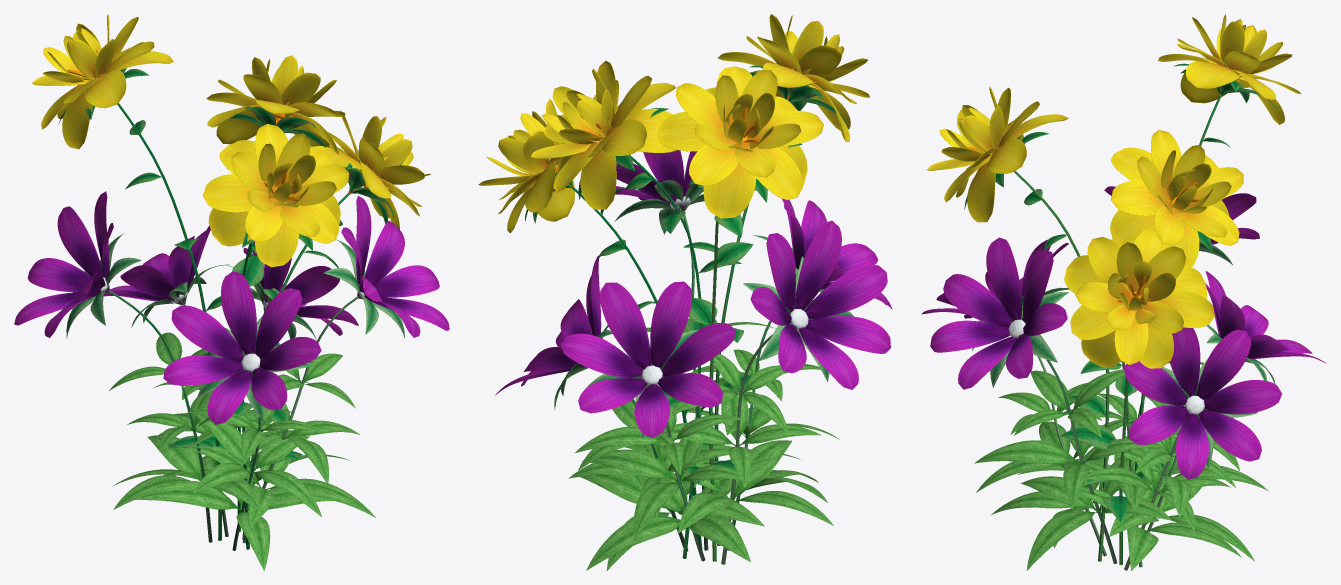
The model's file is ColoredFlower.fbx.
The picture shows the model from 3 angles, left to right: view 1: azimuth 30°, elevation 25°; view 2: azimuth 150°, elevation 25°; view 3: azimuth 270°, elevation 25°; orthographic projection. The views are drawn at different scales.
Parts seen in each view (by area): view 1: flower_patch_2, Wide_leaf_2; view 2: flower_patch_2, Wide_leaf_2; view 3: flower_patch_2, Wide_leaf_2.
Boxes of the visible parts, x1,y1,x2,y2 form: flower_patch_2: [14, 191, 449, 570]; Wide_leaf_2: [32, 14, 431, 549]; flower_patch_2: [495, 150, 892, 570]; Wide_leaf_2: [478, 14, 869, 561]; flower_patch_2: [921, 186, 1325, 570]; Wide_leaf_2: [927, 14, 1301, 567].
Bounding box in the file's own units: 45.05 × 58.62 × 42.6.
Materials: 7 (7 with a texture image).
